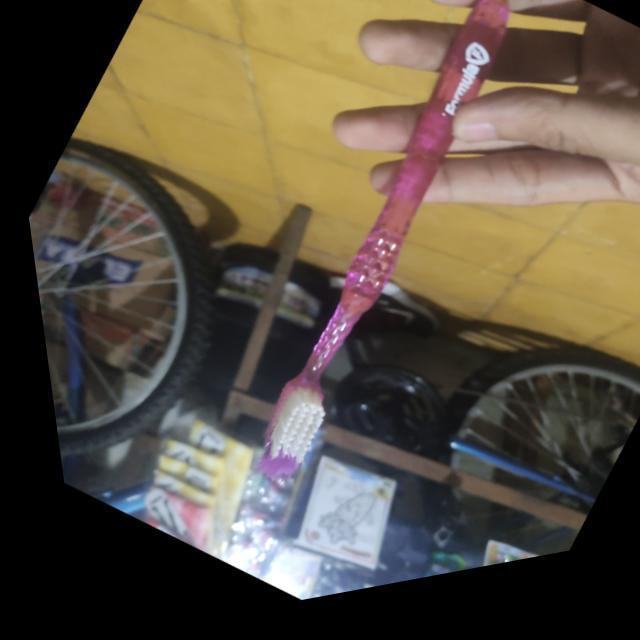toothbrush: (127, 0, 623, 536)
